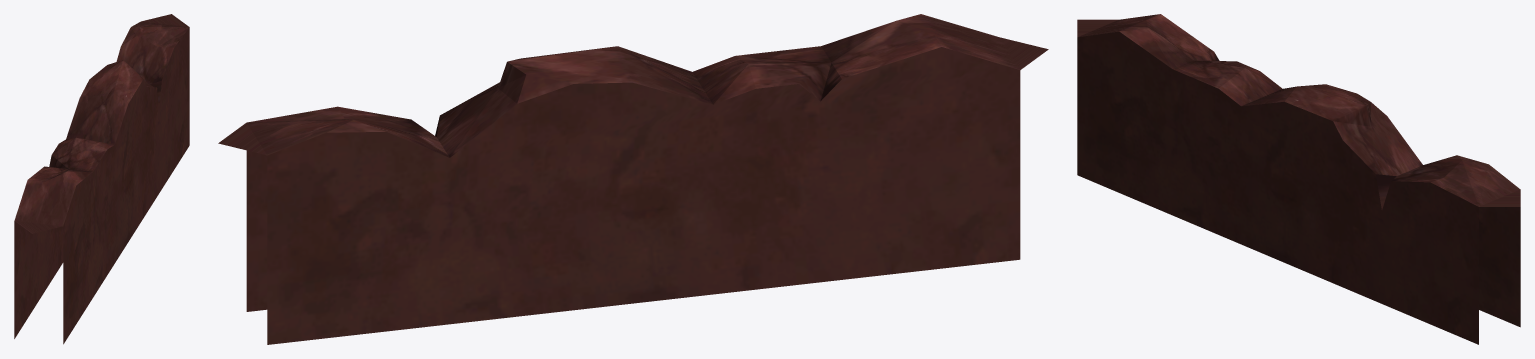
The model's file is lava_broken_diagonal_01.fbx.
3 views of the same model, side by side, from view 1: azimuth 30°, elevation 25°; view 2: azimuth 150°, elevation 25°; view 3: azimuth 270°, elevation 25° (orthographic). The views are drawn at different scales.
Visible parts, largest first — view 1: lava_broken_diagonal_01-0; view 2: lava_broken_diagonal_01-0; view 3: lava_broken_diagonal_01-0.
Boxes of the visible parts, x1=… form: lava_broken_diagonal_01-0: x1=14, y1=14, x2=189, y2=344; lava_broken_diagonal_01-0: x1=218, y1=14, x2=1048, y2=344; lava_broken_diagonal_01-0: x1=1077, y1=14, x2=1520, y2=344.
Bounding box in the file's own units: 4 × 1.73 × 4.
